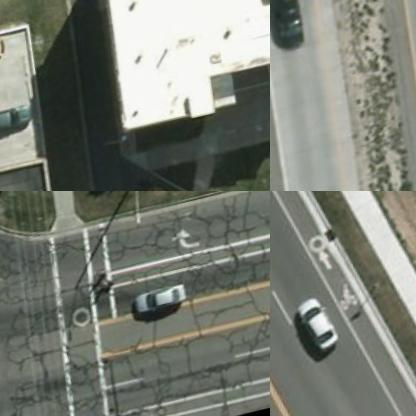car: (292, 292, 352, 362), (270, 0, 315, 58), (132, 280, 196, 319), (0, 103, 34, 142), (135, 176, 200, 190)
